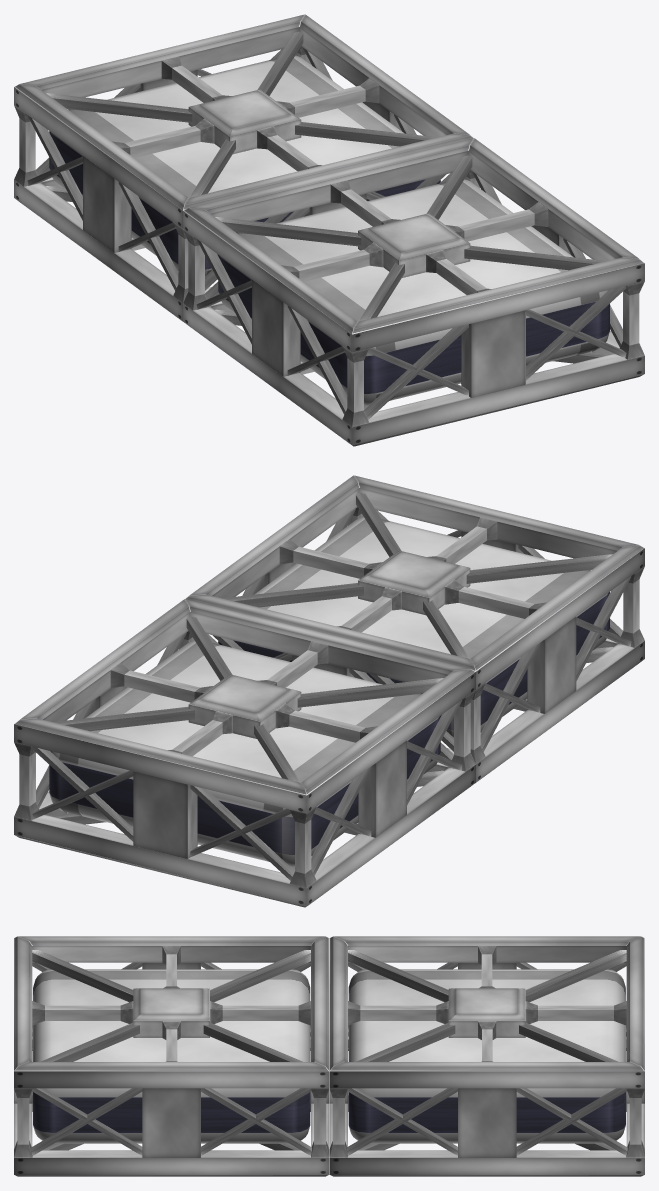
Rendered from Chassis2u.FBX.
The picture shows the model from 3 angles, top to bottom: view 1: azimuth 30°, elevation 25°; view 2: azimuth 150°, elevation 25°; view 3: azimuth 270°, elevation 25°; orthographic projection. The views are drawn at different scales.
Parts seen in each view (by area): view 1: Frame001, StorageTank001, Frame003, StorageTank002, Frame002, Frame004, SideHardpoint002, TopHardpoint004, TopHardpoint001, Bracing017, Bracing025, SideHardpoint001 (+24 smaller); view 2: Frame003, StorageTank002, Frame001, StorageTank001, Frame004, Frame002, SideHardpoint008, TopHardpoint004, TopHardpoint001, Bracing037, Bracing018, SideHardpoint001 (+24 smaller); view 3: StorageTank002, StorageTank001, Frame003, Frame001, Frame002, Frame004, SideHardpoint003, SideHardpoint005, TopHardpoint004, TopHardpoint001, Bracing018, Bracing025 (+24 smaller).
Boxes of the visible parts, bbox=[...] form: Frame001: bbox=[183, 138, 644, 352]; StorageTank001: bbox=[218, 179, 609, 405]; Frame003: bbox=[14, 14, 473, 228]; StorageTank002: bbox=[49, 55, 440, 276]; Frame002: bbox=[183, 301, 644, 446]; Frame004: bbox=[14, 177, 211, 322]; SideHardpoint002: bbox=[461, 310, 525, 397]; TopHardpoint004: bbox=[188, 89, 301, 154]; TopHardpoint001: bbox=[358, 213, 470, 277]; Bracing017: bbox=[215, 217, 606, 270]; Bracing025: bbox=[46, 93, 436, 146]; SideHardpoint001: bbox=[252, 279, 300, 376]; Frame003: bbox=[14, 599, 475, 813]; StorageTank002: bbox=[49, 640, 440, 866]; Frame001: bbox=[185, 475, 644, 689]; StorageTank001: bbox=[218, 516, 609, 737]; Frame004: bbox=[14, 762, 475, 907]; Frame002: bbox=[447, 638, 644, 783]; SideHardpoint008: bbox=[133, 771, 197, 858]; TopHardpoint004: bbox=[188, 674, 301, 738]; TopHardpoint001: bbox=[358, 550, 470, 615]; Bracing037: bbox=[52, 678, 443, 731]; Bracing018: bbox=[222, 554, 612, 607]; SideHardpoint001: bbox=[527, 617, 576, 713]; StorageTank002: bbox=[348, 969, 625, 1143]; StorageTank001: bbox=[33, 969, 310, 1143]; Frame003: bbox=[329, 936, 644, 1088]; Frame001: bbox=[14, 936, 329, 1088]; Frame002: bbox=[14, 1030, 329, 1176]; Frame004: bbox=[329, 1030, 644, 1176]; SideHardpoint003: bbox=[142, 1088, 200, 1157]; SideHardpoint005: bbox=[458, 1088, 516, 1157]; TopHardpoint004: bbox=[448, 988, 525, 1037]; TopHardpoint001: bbox=[133, 988, 209, 1037]; Bracing018: bbox=[32, 950, 302, 1061]; Bracing025: bbox=[356, 950, 626, 1061].
Size of what is drawn, in the model's own units: 0.846 by 0.3261 by 1.69.
